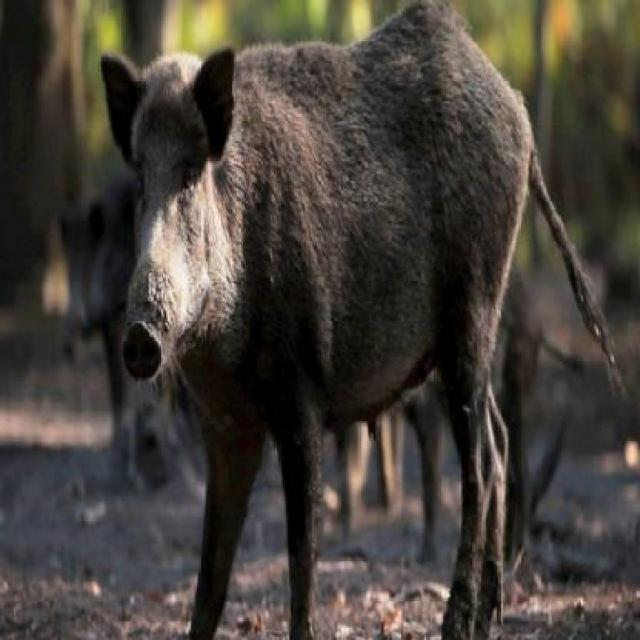Wild Boar: (125, 0, 628, 640), (58, 150, 160, 423)
